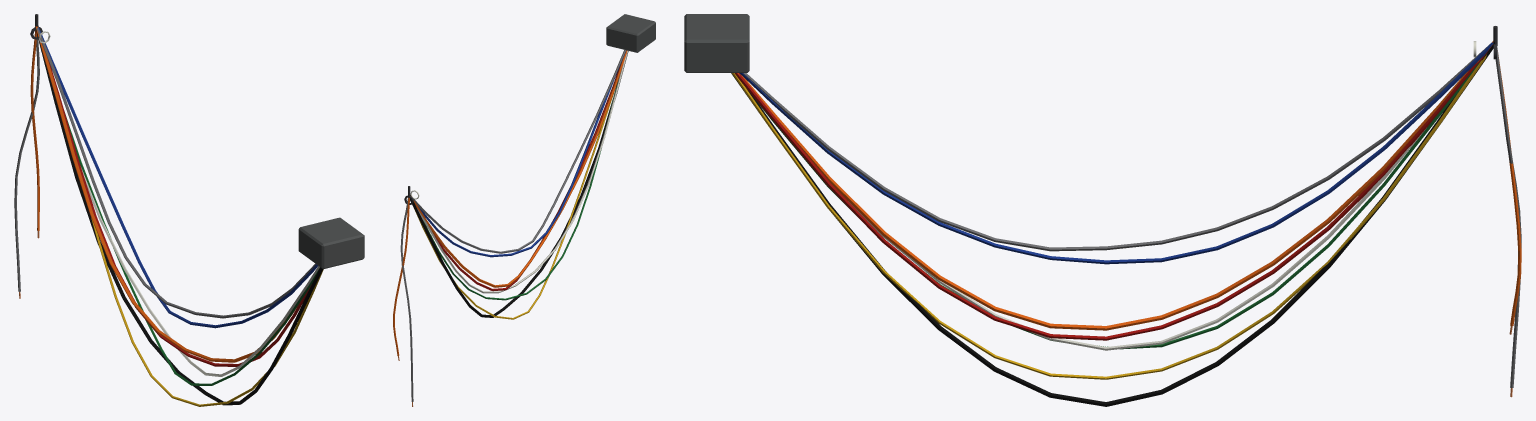
File: cable_hang.glb
3 views of the same model, side by side, from view 1: azimuth 30°, elevation 25°; view 2: azimuth 150°, elevation 25°; view 3: azimuth 270°, elevation 25° (orthographic). The views are drawn at different scales.
Visible parts, largest first — view 1: teil0, teil9, teil8, teil7, teil4, teil2, teil6, teil5, teil3; view 2: teil8, teil9, teil0, teil7, teil6, teil4, teil3, teil5, teil2; view 3: teil8, teil9, teil2, teil7, teil0, teil4, teil3, teil6, teil5.
Part boxes in pixels (left/top/right/bottom): teil0: left=298, top=217, right=364, bottom=269; teil9: left=14, top=27, right=315, bottom=318; teil8: left=30, top=26, right=297, bottom=362; teil7: left=35, top=26, right=322, bottom=405; teil4: left=38, top=27, right=317, bottom=328; teil2: left=48, top=60, right=311, bottom=366; teil6: left=81, top=167, right=319, bottom=376; teil5: left=64, top=112, right=319, bottom=385; teil3: left=91, top=218, right=323, bottom=406; teil8: left=393, top=50, right=627, bottom=356; teil9: left=400, top=50, right=625, bottom=401; teil0: left=606, top=14, right=655, bottom=52; teil7: left=410, top=51, right=628, bottom=317; teil6: left=417, top=51, right=627, bottom=293; teil4: left=418, top=50, right=626, bottom=257; teil3: left=415, top=92, right=614, bottom=319; teil5: left=423, top=80, right=618, bottom=300; teil2: left=426, top=66, right=620, bottom=291; teil8: left=738, top=41, right=1521, bottom=330; teil9: left=743, top=44, right=1521, bottom=387; teil2: left=734, top=49, right=1489, bottom=340; teil7: left=731, top=42, right=1494, bottom=406; teil0: left=684, top=14, right=749, bottom=72; teil4: left=739, top=42, right=1493, bottom=264; teil3: left=732, top=54, right=1486, bottom=379; teil6: left=848, top=128, right=1426, bottom=350; teil5: left=755, top=60, right=1481, bottom=349.
Size of the model in its own units: 0.1658 by 1.02 by 2.04.
